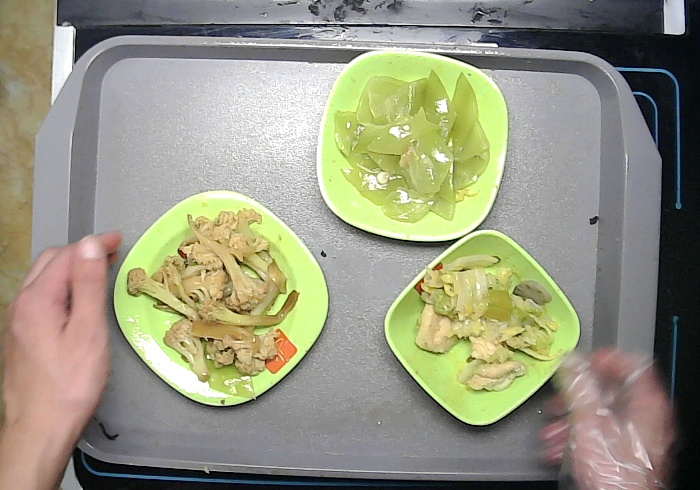SHKJ-Lv_Se_Cai_Die: (312, 47, 509, 242)
SHKJ-Lv_Se_Si_Fang_Cai_Die: (111, 188, 331, 409)
SHKJ-Lv_Se_Xiao_Fang_Die: (381, 227, 580, 429)
